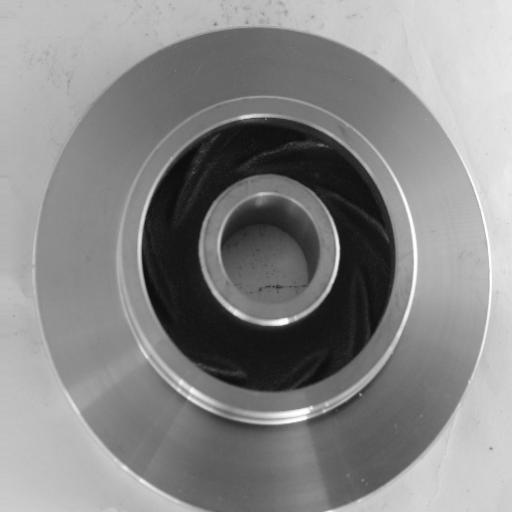polished_casting: (32, 26, 493, 512)
